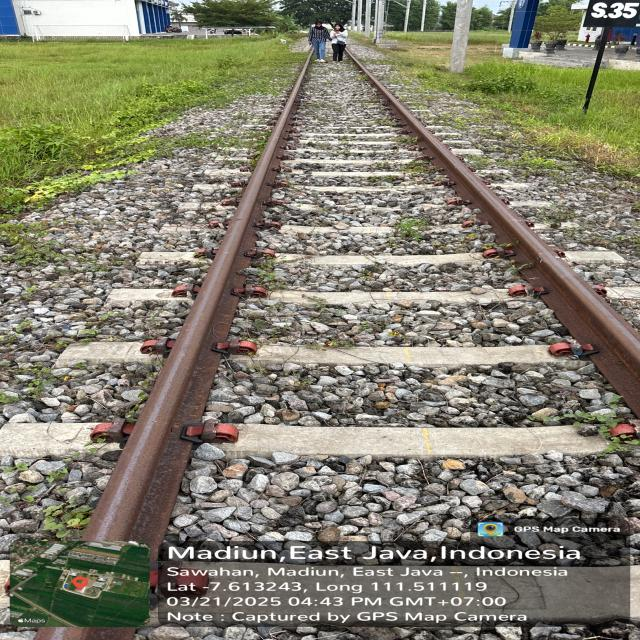rail-detection: (83, 61, 308, 562), (366, 72, 640, 416)
